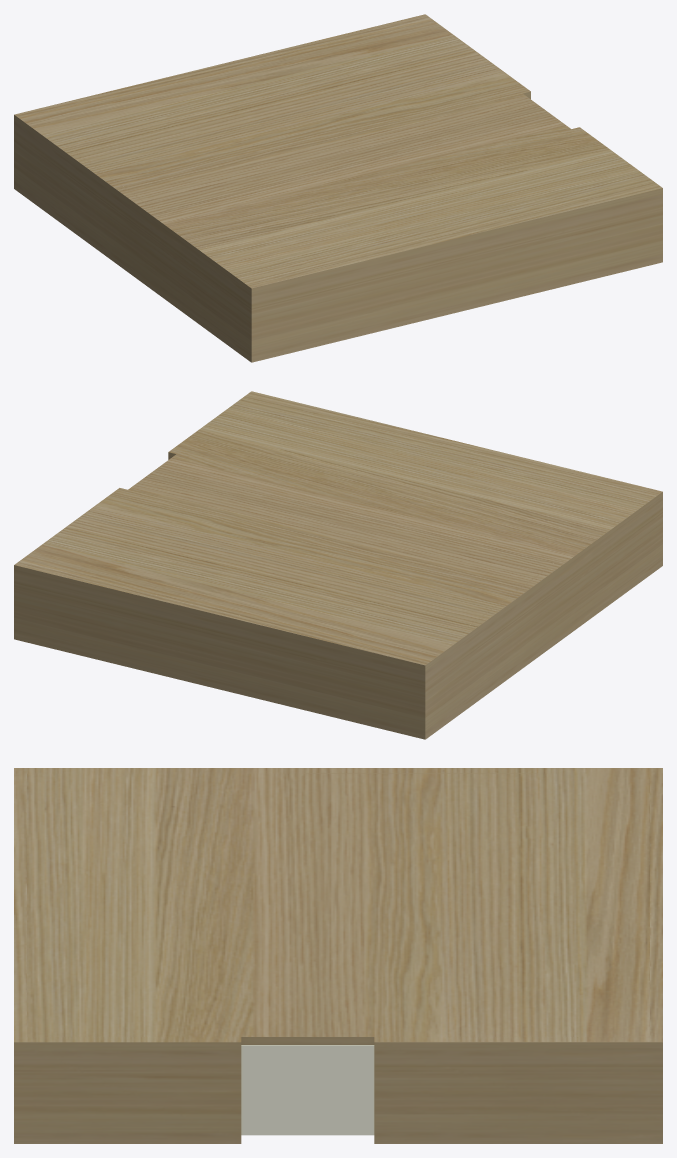
File: raw_model.obj
3 renders of one model, top to bottom at view 1: azimuth 30°, elevation 25°; view 2: azimuth 150°, elevation 25°; view 3: azimuth 270°, elevation 25°, orthographic. The views are drawn at different scales.
Visible parts, largest first — view 1: solid_001; view 2: solid_001; view 3: solid_001, solid_002.
Part boxes in pixels (x1,y1,x2,y2): solid_001: (14, 14, 662, 362); solid_001: (14, 391, 662, 739); solid_001: (14, 768, 662, 1143); solid_002: (241, 1045, 374, 1135).
Bounding box in the file's own units: 0.7 × 0.1207 × 0.7.
Materials: 1 (1 with a texture image).
